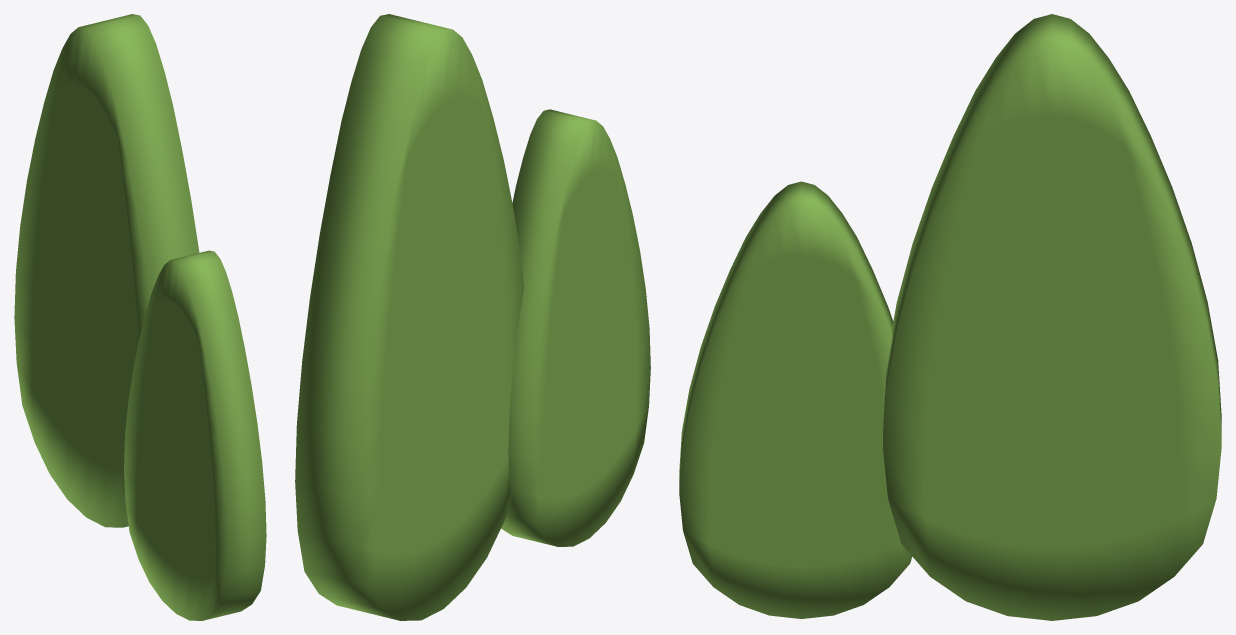
Rendered from herbe-ete.gltf.
3 views of the same model, side by side, from view 1: azimuth 30°, elevation 25°; view 2: azimuth 150°, elevation 25°; view 3: azimuth 270°, elevation 25° (orthographic). The views are drawn at different scales.
Parts seen in each view (by area): view 1: Plane.004, Plane.005; view 2: Plane.004, Plane.005; view 3: Plane.004, Plane.005.
Part boxes in pixels (bbox=[...]): Plane.004: bbox=[14, 14, 199, 527]; Plane.005: bbox=[124, 250, 266, 620]; Plane.004: bbox=[295, 14, 523, 620]; Plane.005: bbox=[501, 109, 650, 546]; Plane.004: bbox=[883, 14, 1221, 620]; Plane.005: bbox=[679, 181, 912, 618].
Bounding box in the file's own units: 0.0645 × 0.4367 × 0.3623.
